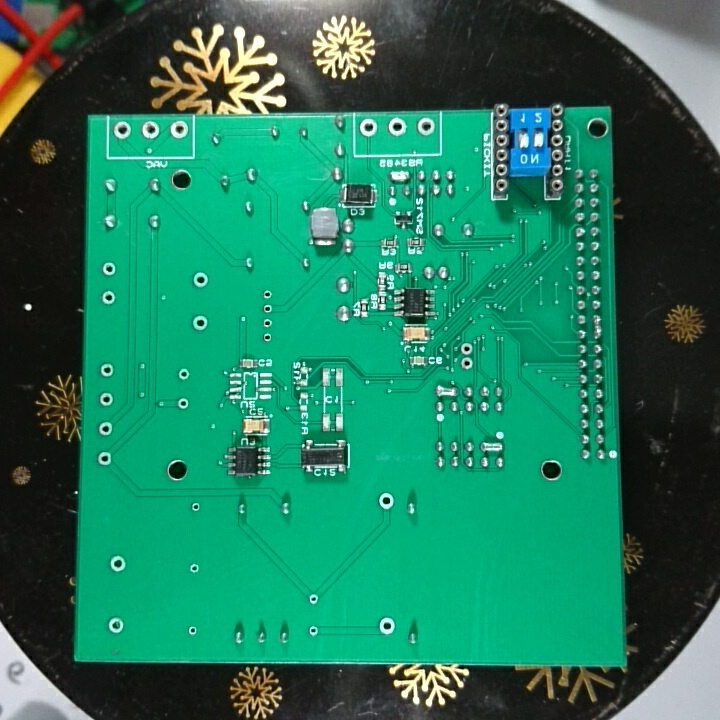F: (376, 612, 397, 639), (386, 115, 410, 138), (104, 613, 127, 636), (169, 118, 189, 143), (106, 553, 131, 573), (358, 116, 380, 138), (414, 116, 437, 137), (140, 119, 161, 142), (111, 117, 132, 140), (376, 489, 396, 513), (93, 445, 113, 468), (96, 390, 116, 411), (192, 268, 211, 290), (100, 259, 121, 278), (100, 288, 119, 307), (186, 559, 205, 577), (458, 354, 476, 373), (98, 361, 115, 381), (192, 312, 209, 331), (260, 285, 277, 302), (175, 366, 191, 384), (96, 420, 114, 436), (305, 589, 321, 607), (459, 339, 475, 356), (306, 622, 323, 637), (261, 299, 276, 316), (261, 329, 275, 346), (175, 394, 188, 411), (189, 498, 202, 515), (261, 316, 276, 330), (186, 624, 198, 640)
P: (388, 165, 415, 185), (591, 311, 606, 340), (433, 382, 460, 398), (479, 439, 506, 451)
